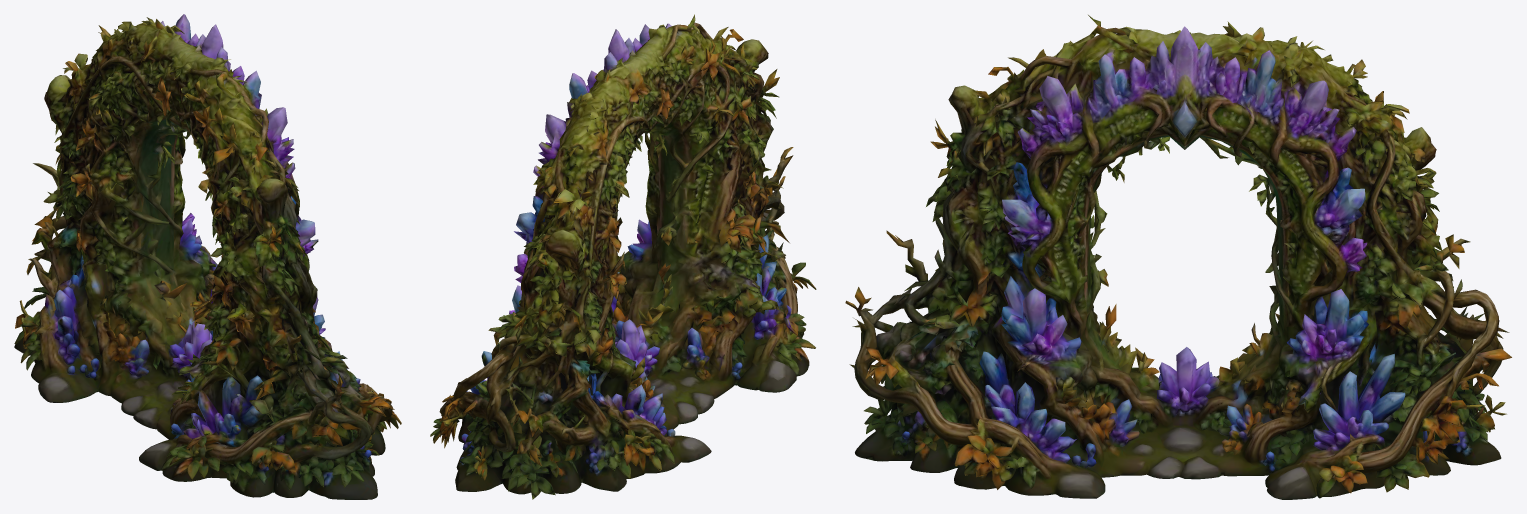
Rendered from Portaille.glb.
3 views of the same model, side by side, from view 1: azimuth 30°, elevation 25°; view 2: azimuth 150°, elevation 25°; view 3: azimuth 270°, elevation 25° (orthographic). The views are drawn at different scales.
Visible parts, largest first — view 1: tripo_node_fd840b55-fe44-413b-8a3d-73efa374d154; view 2: tripo_node_fd840b55-fe44-413b-8a3d-73efa374d154; view 3: tripo_node_fd840b55-fe44-413b-8a3d-73efa374d154.
Part boxes in pixels (box(x1,y1,x2,y2)): tripo_node_fd840b55-fe44-413b-8a3d-73efa374d154: box(14, 14, 401, 499); tripo_node_fd840b55-fe44-413b-8a3d-73efa374d154: box(430, 14, 816, 499); tripo_node_fd840b55-fe44-413b-8a3d-73efa374d154: box(845, 15, 1511, 499).
Bounding box in the file's own units: 0.4501 × 0.6924 × 0.9869.
Materials: 1 (1 with a texture image).
